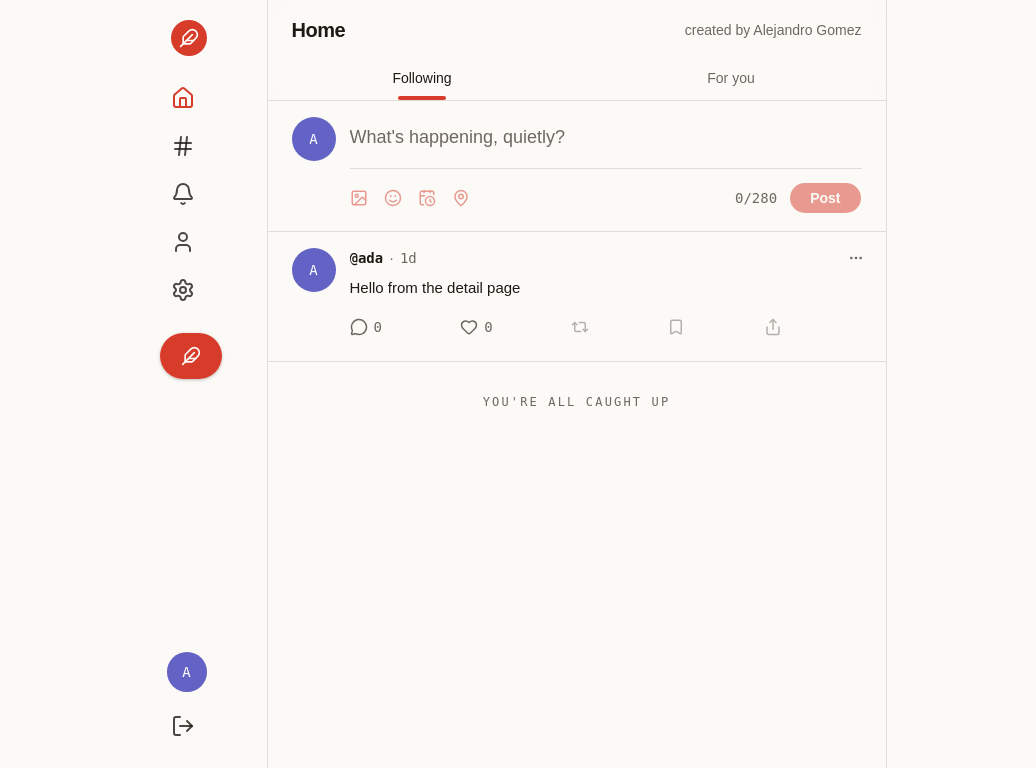
Test: PostDetail › back button › goes back to the previous page when opened from inside the app
Expected: the element that starts with "Home" is shown, [266,0,886,767]
What coordinates should you click on to do the following:
click the link named "Open post by @ada"
I would click on:
 (408, 258)
Its box is [400,248,417,268].
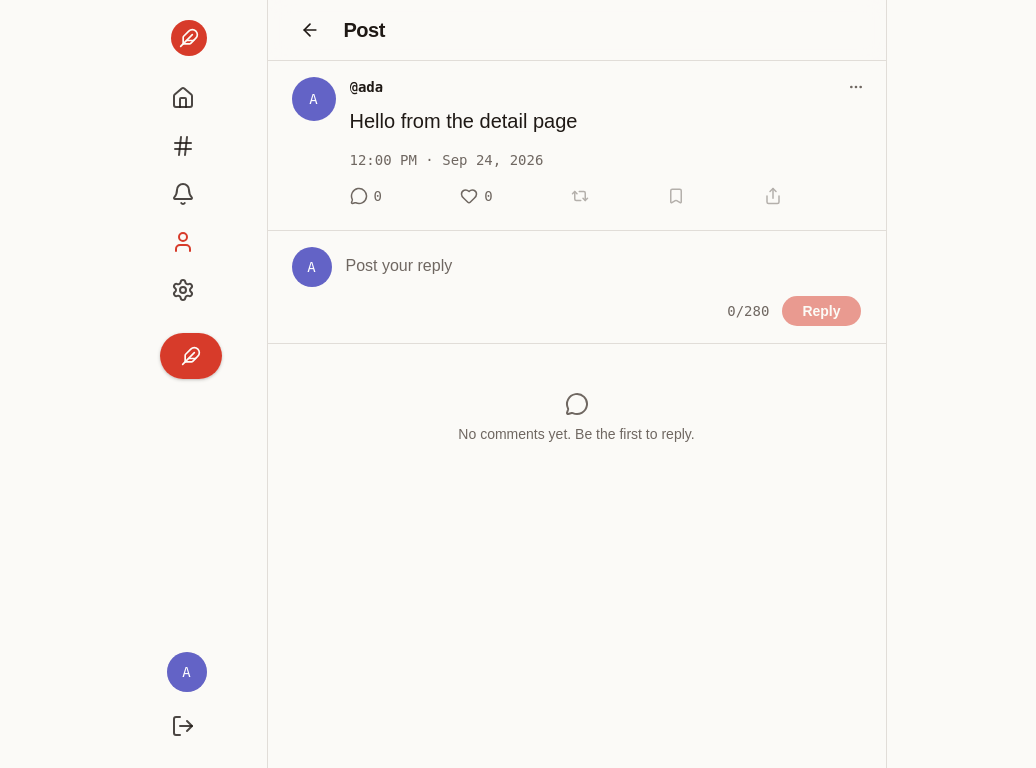
Expected: the text "Hello from the detail page" is shown, [350,110,577,132]
Now the heading "Post" is shown, box [344,19,385,41]
What coordinates should you click on to do the following:
click the button named "Back"
I would click on:
 (310, 30)
Its box is [292,12,328,48].
(page scrolled)
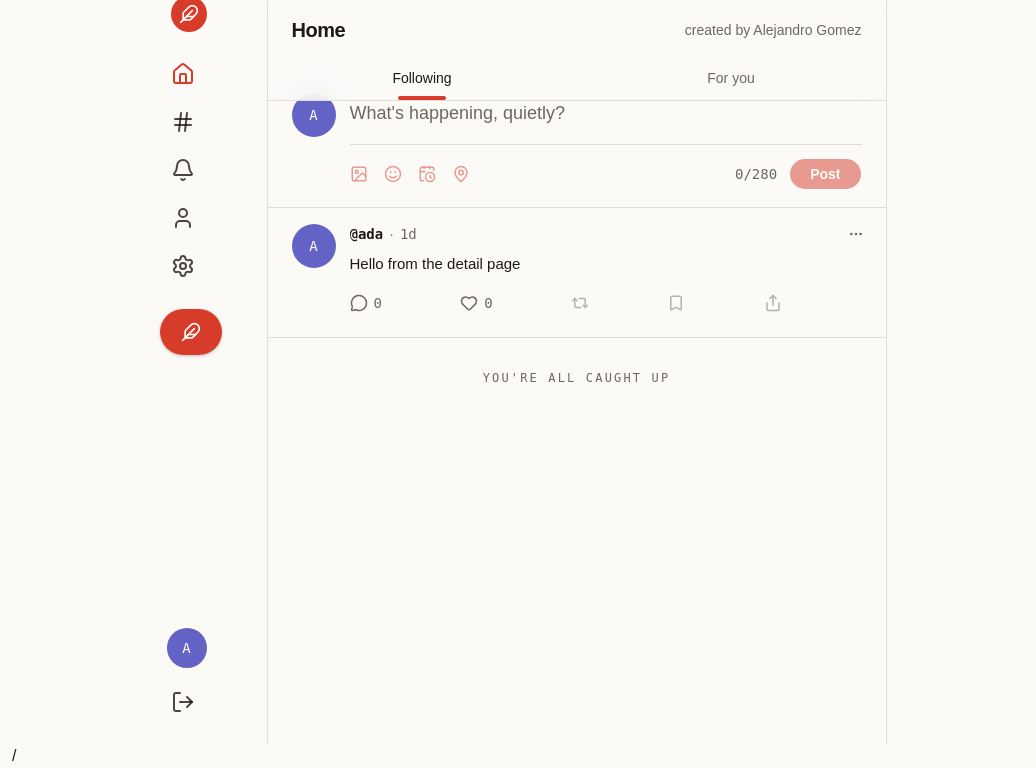
Now the text with test id "location" reads "/", box [12,747,16,764]
